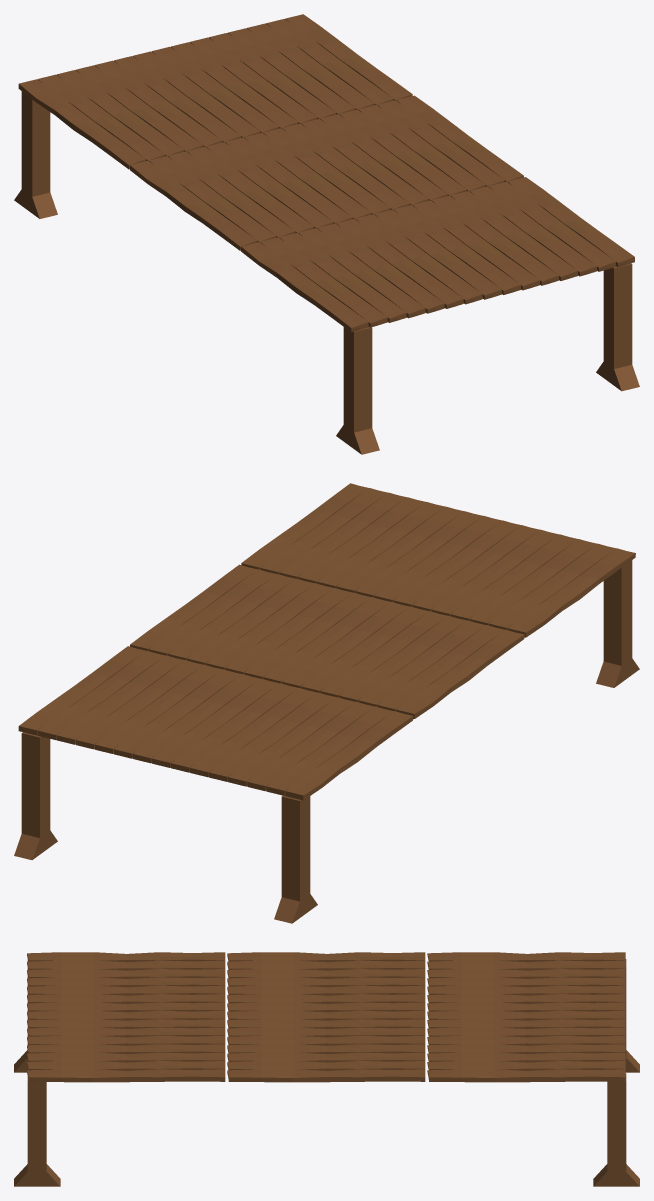
The model's file is Wood stage.fbx.
3 renders of one model, top to bottom at view 1: azimuth 30°, elevation 25°; view 2: azimuth 150°, elevation 25°; view 3: azimuth 270°, elevation 25°, orthographic. The views are drawn at different scales.
Parts seen in each view (by area): view 1: Cube; view 2: Cube; view 3: Cube.
Part boxes in pixels (x1=…): Cube: x1=14, y1=14, x2=639, y2=454; Cube: x1=14, y1=483, x2=639, y2=923; Cube: x1=14, y1=952, x2=639, y2=1186.
Size of the model in its own units: 313 by 130 by 660.
